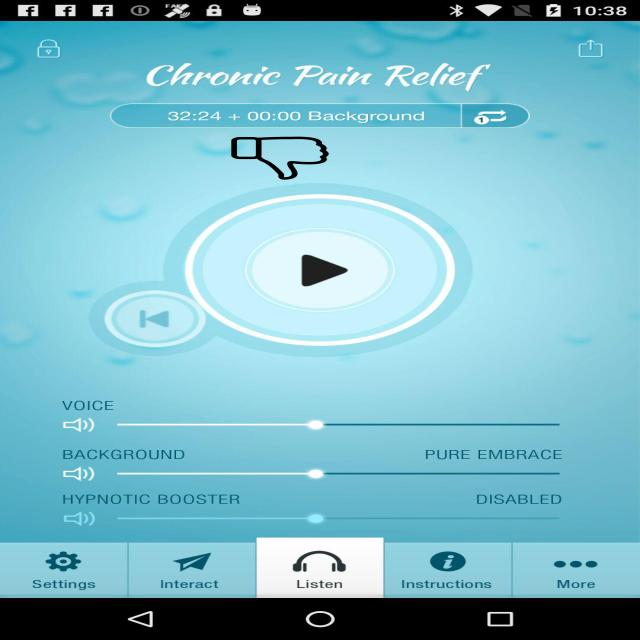obstruction: (230, 136, 330, 180)
